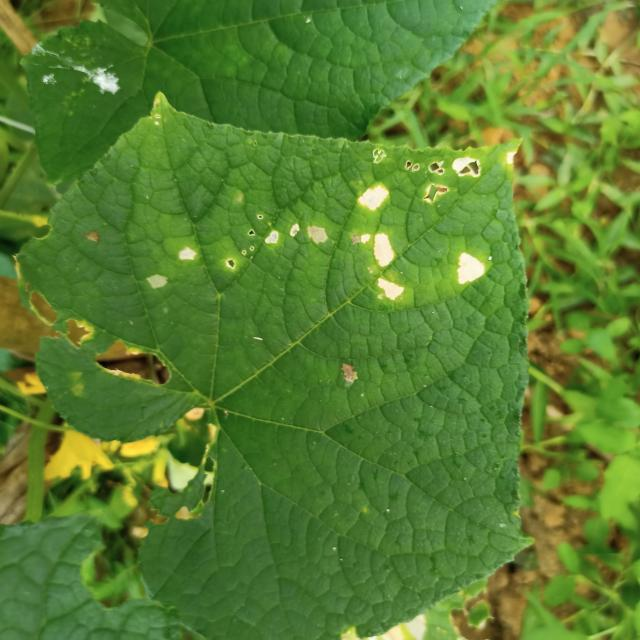disease_cucumber: (346, 144, 522, 325), (141, 178, 333, 304)
